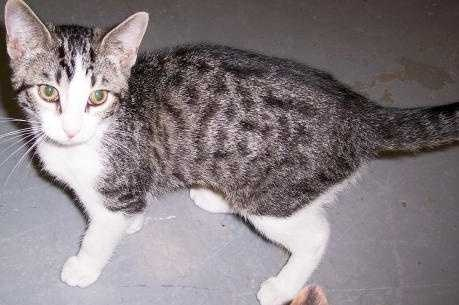Cat: (4, 0, 425, 289)
